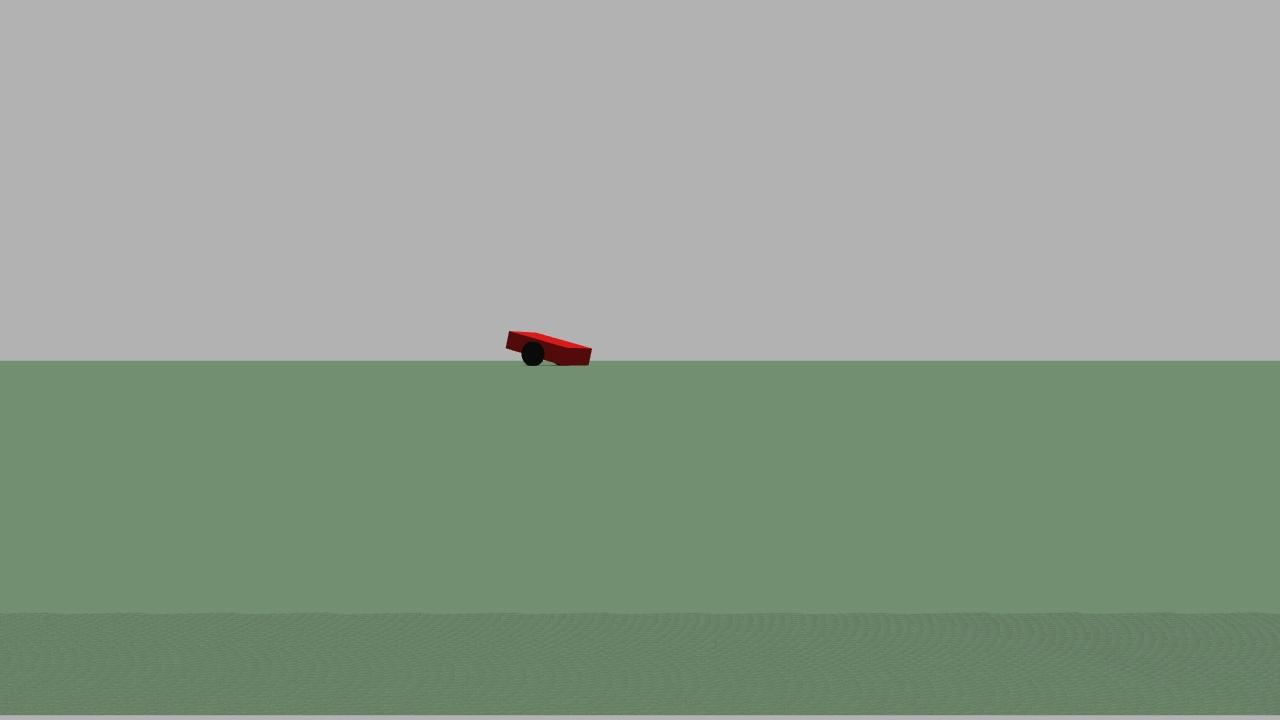ground_vehicle: (501, 325, 594, 378)
